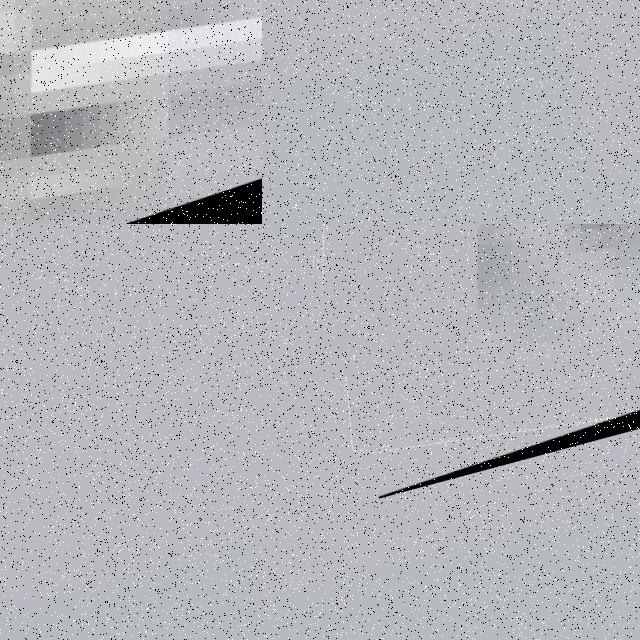drone: (283, 224, 640, 498), (0, 0, 262, 224)
